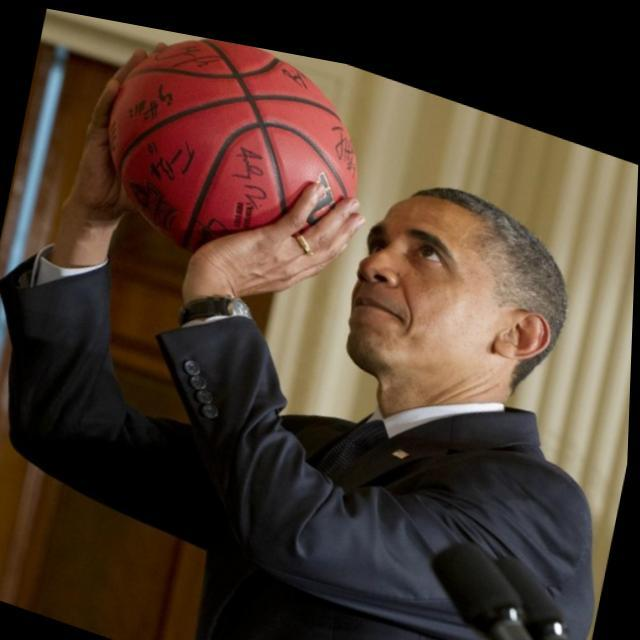Nonhelmet: (342, 181, 571, 410)
